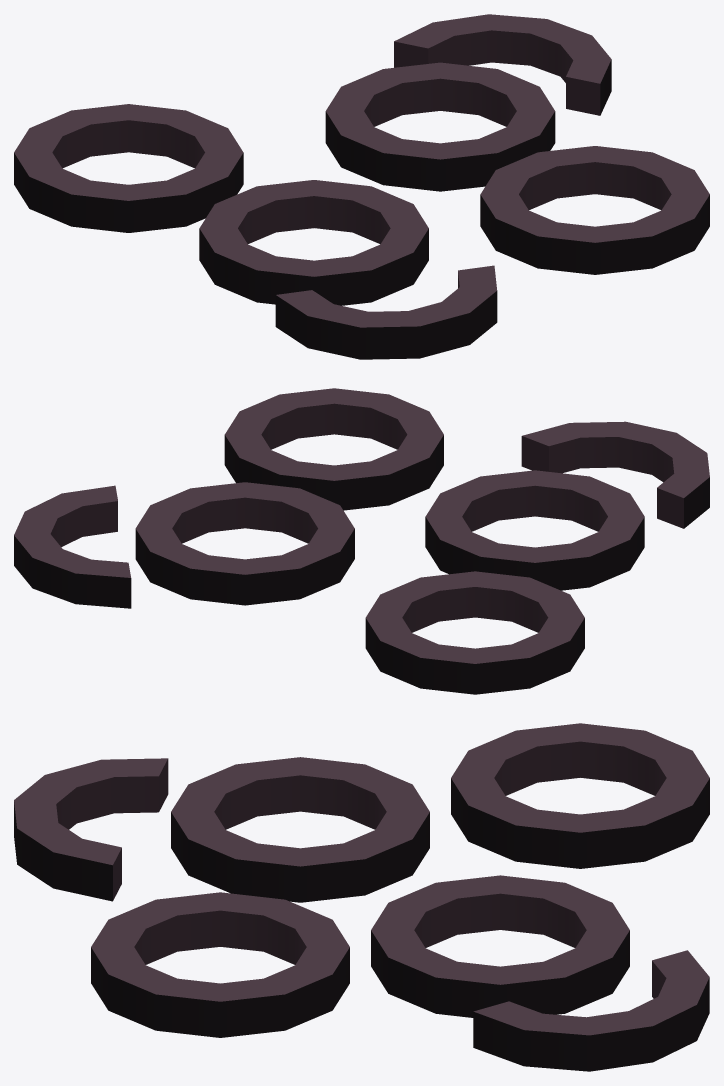
The model's file is Olive_Slice_Oilives_0.glb.
3 renders of one model, top to bottom at view 1: azimuth 30°, elevation 25°; view 2: azimuth 150°, elevation 25°; view 3: azimuth 270°, elevation 25°, orthographic. The views are drawn at different scales.
Visible parts, largest first — view 1: Olive_Slice_Oilives_0; view 2: Olive_Slice_Oilives_0; view 3: Olive_Slice_Oilives_0.
Part boxes in pixels (<box>): Olive_Slice_Oilives_0: <box>14,14,709,359</box>; Olive_Slice_Oilives_0: <box>14,388,709,694</box>; Olive_Slice_Oilives_0: <box>14,723,709,1071</box>.
Size of the model in its own units: 0.1847 by 0.01 by 0.174.
1 material, 1 textured.
